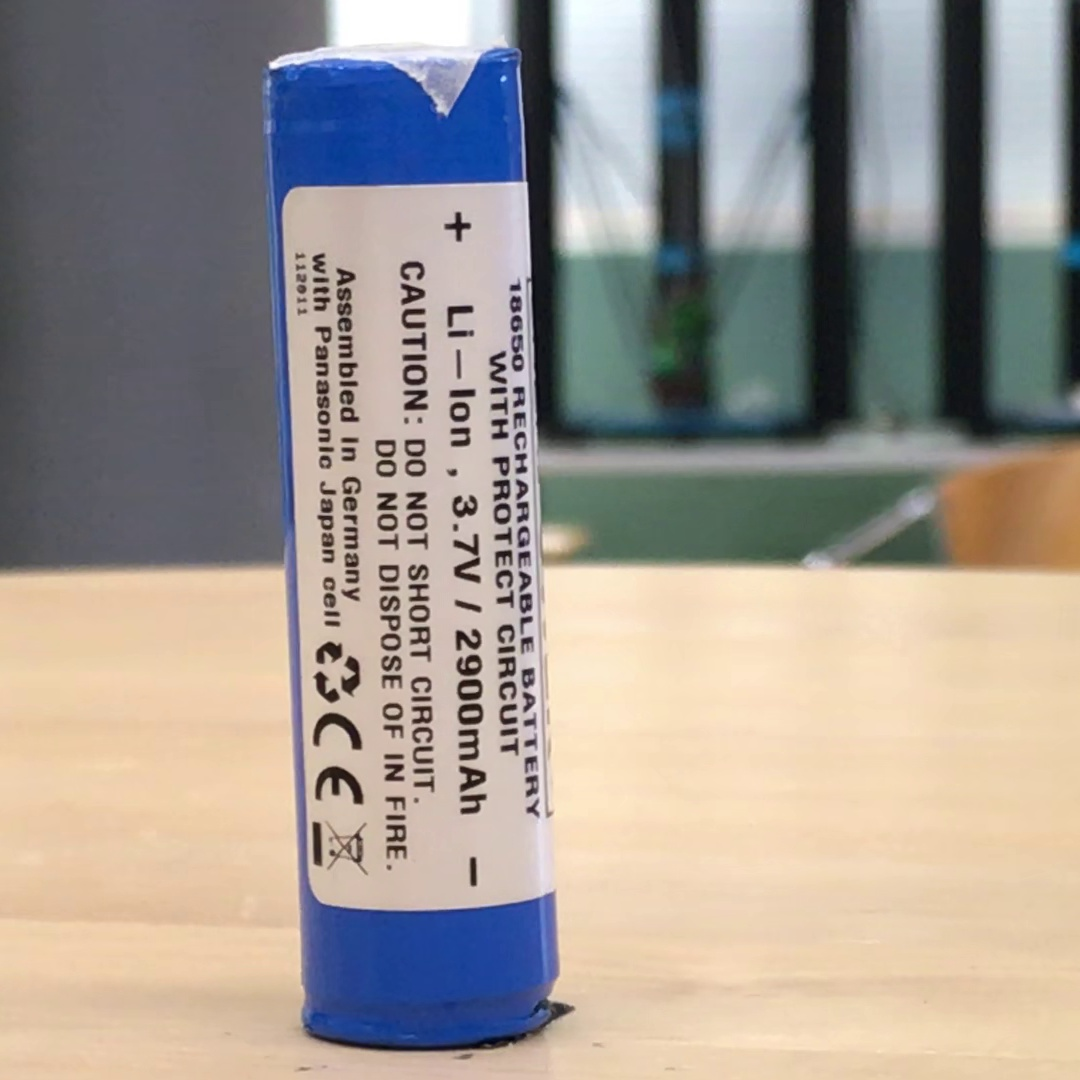keyword: (442, 485, 491, 588)
